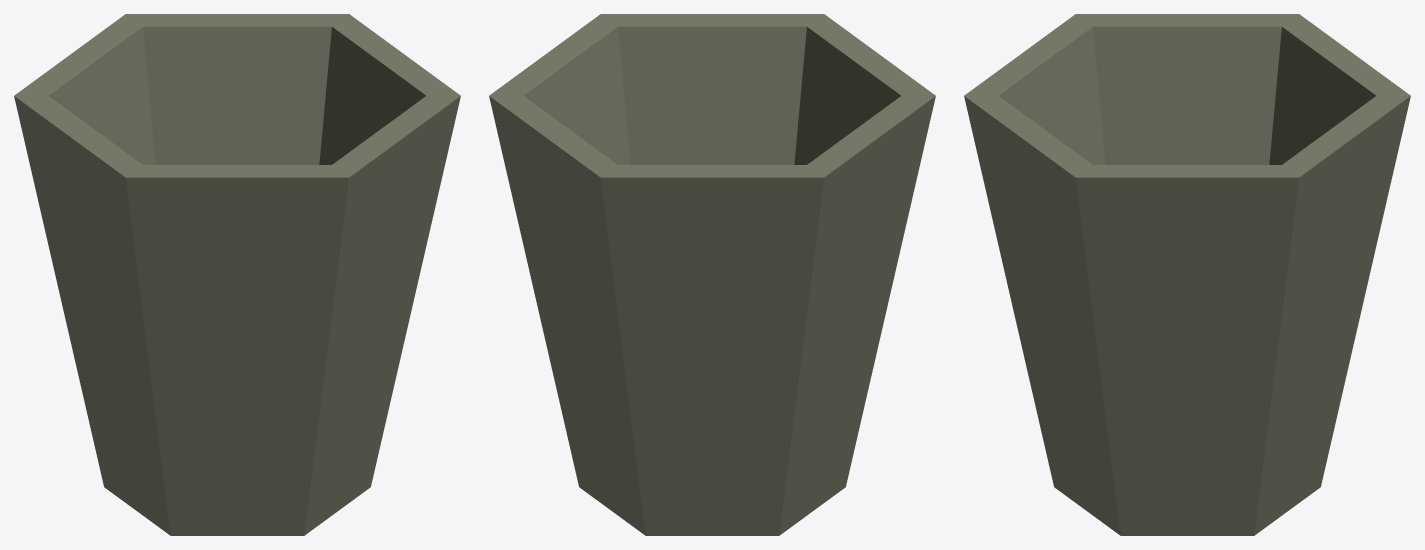
The model's file is bucket.fbx.
The picture shows the model from 3 angles, left to right: view 1: azimuth 30°, elevation 25°; view 2: azimuth 150°, elevation 25°; view 3: azimuth 270°, elevation 25°; orthographic projection.
Parts seen in each view (by area): view 1: Cylinder.002; view 2: Cylinder.002; view 3: Cylinder.002.
Part boxes in pixels (left/top/right/bottom): Cylinder.002: left=14, top=14, right=460, bottom=535; Cylinder.002: left=489, top=14, right=935, bottom=535; Cylinder.002: left=964, top=14, right=1410, bottom=535.
Size of the model in its own units: 149 by 167 by 172.
